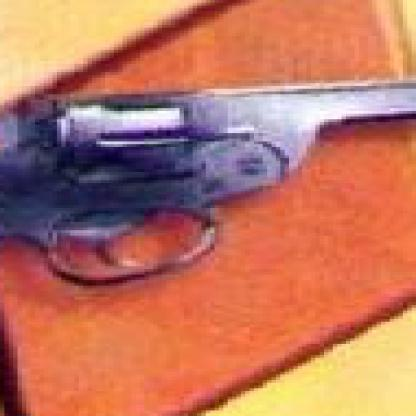gun: (0, 44, 412, 380)
